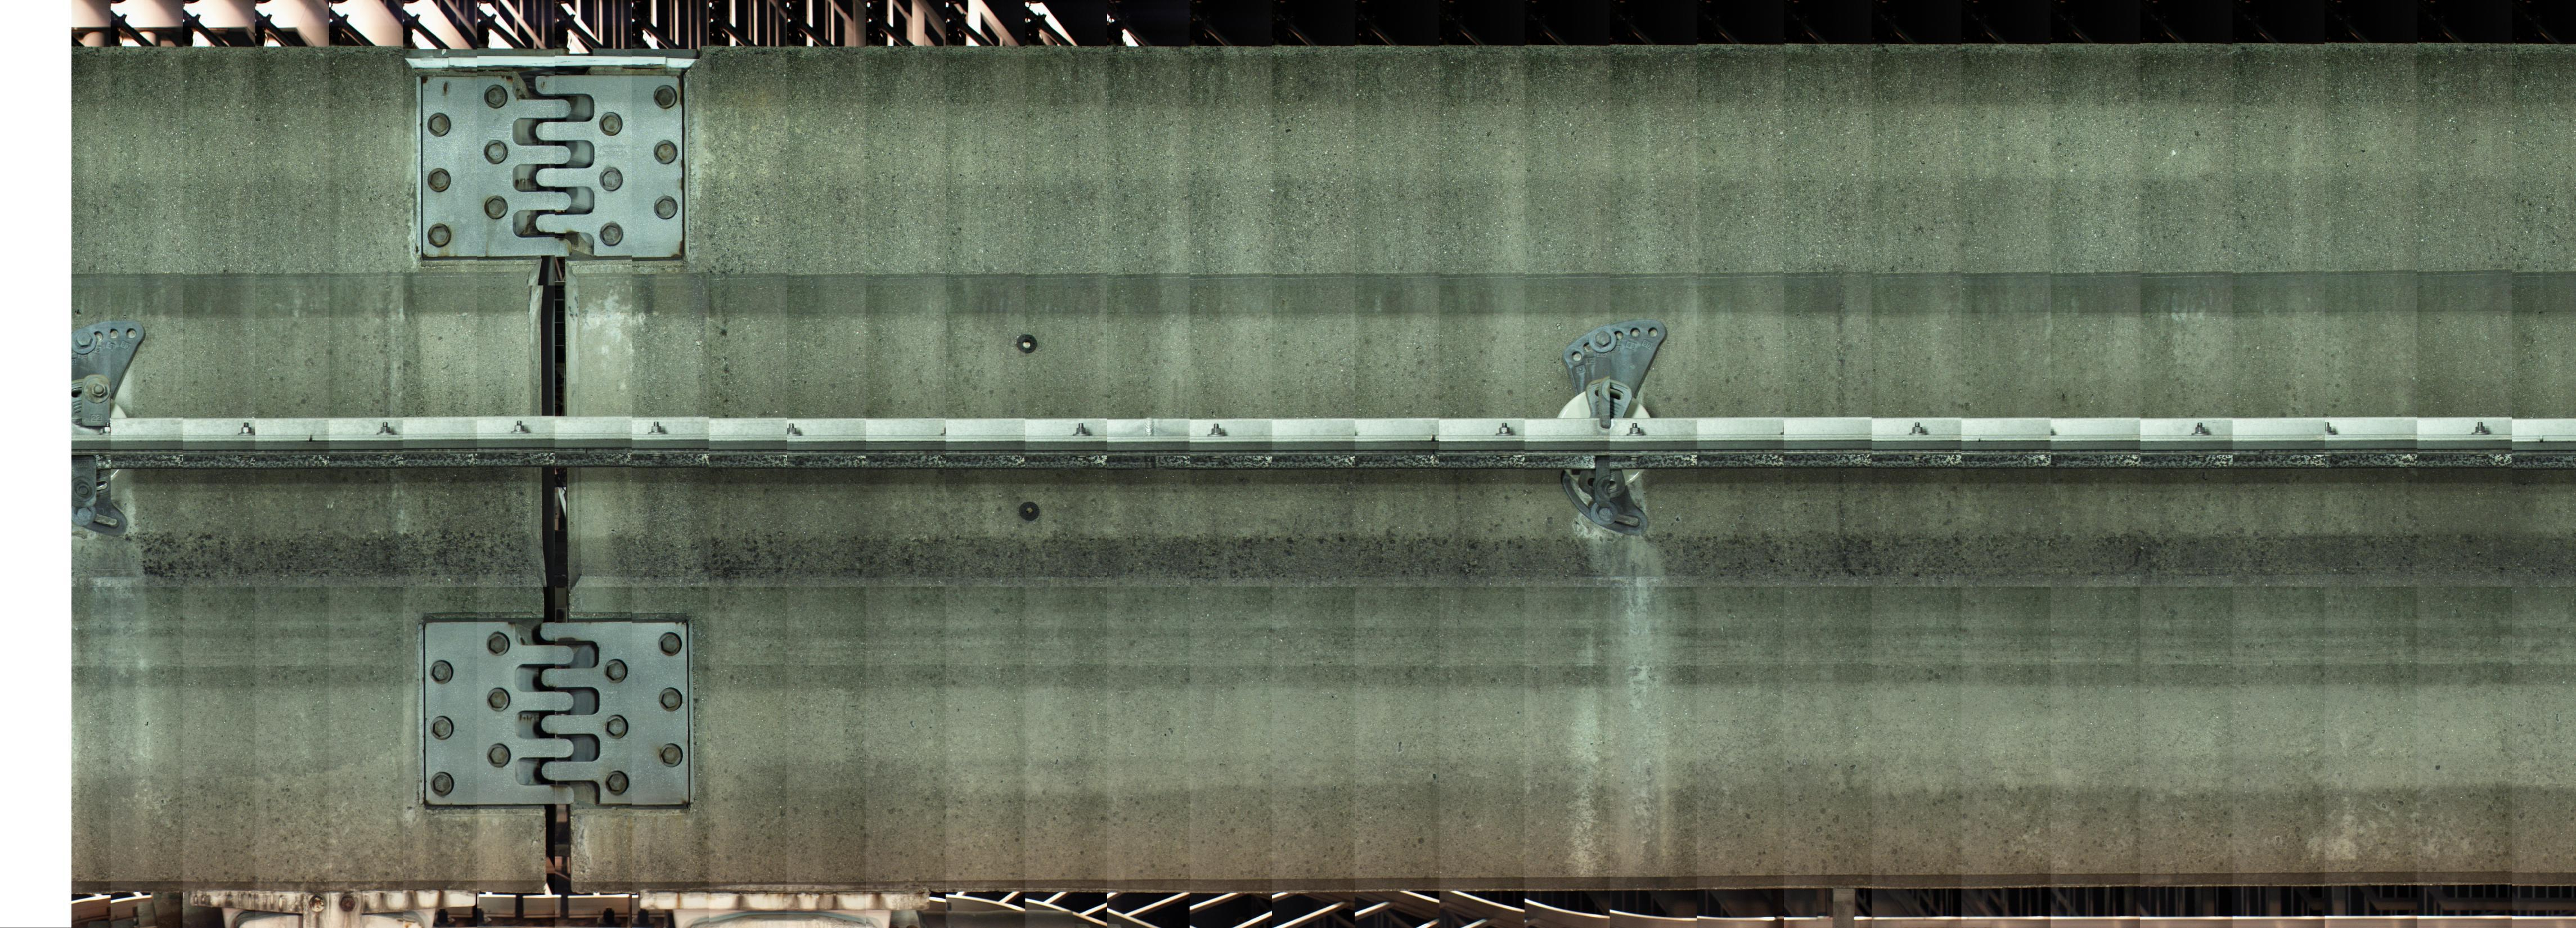concrete: (567, 463, 2573, 875), (572, 38, 2569, 414), (74, 465, 544, 895), (74, 44, 544, 412)
